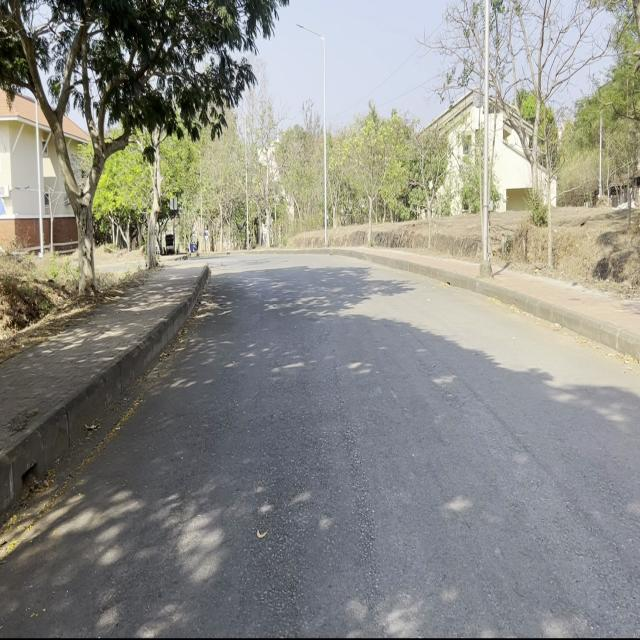Road: (2, 251, 636, 632)
